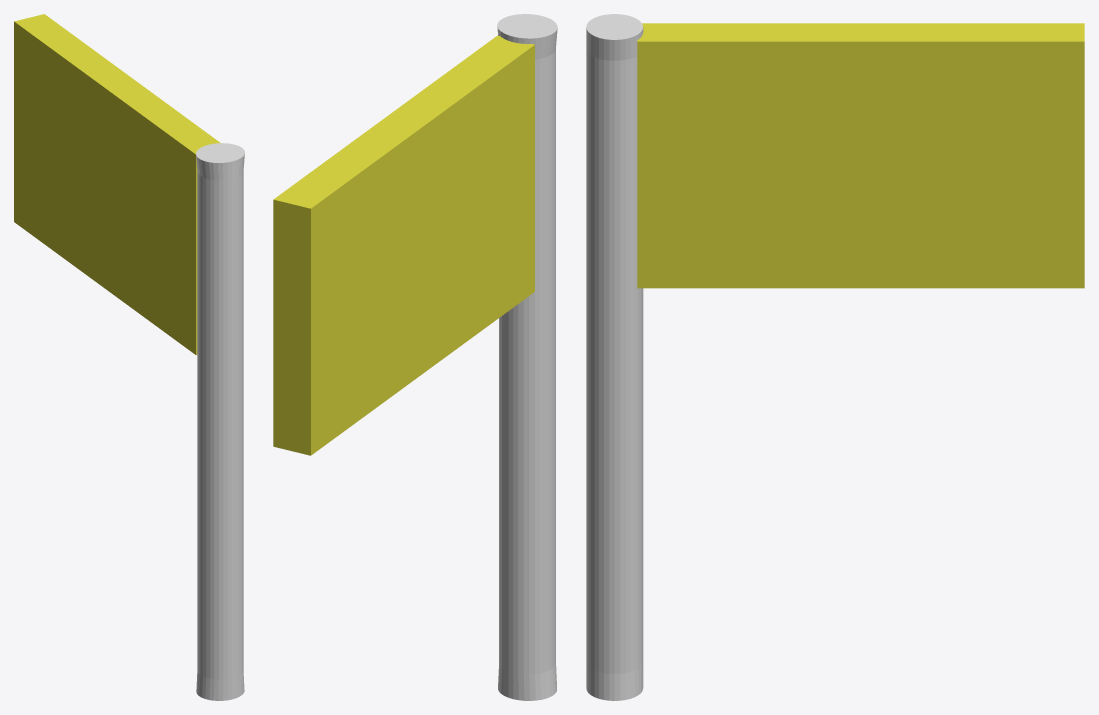
The model's file is goalFlag.gltf.
3 views of the same model, side by side, from view 1: azimuth 30°, elevation 25°; view 2: azimuth 150°, elevation 25°; view 3: azimuth 270°, elevation 25° (orthographic). The views are drawn at different scales.
Parts seen in each view (by area): view 1: 立方体, 円柱; view 2: 立方体, 円柱; view 3: 立方体, 円柱.
Boxes of the visible parts, x1=… form: 立方体: x1=14, y1=14, x2=220, y2=355; 円柱: x1=196, y1=143, x2=244, y2=700; 立方体: x1=273, y1=35, x2=534, y2=455; 円柱: x1=497, y1=14, x2=557, y2=700; 立方体: x1=637, y1=23, x2=1084, y2=288; 円柱: x1=586, y1=14, x2=643, y2=700.
Size of the model in its own units: 1.08 by 12.83 by 8.76.
